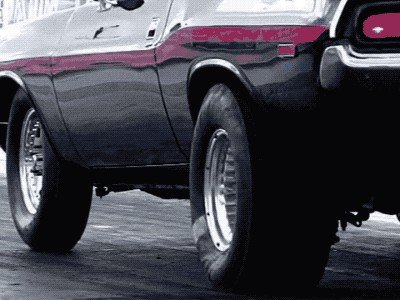tire: (187, 76, 336, 299), (8, 81, 94, 251)
